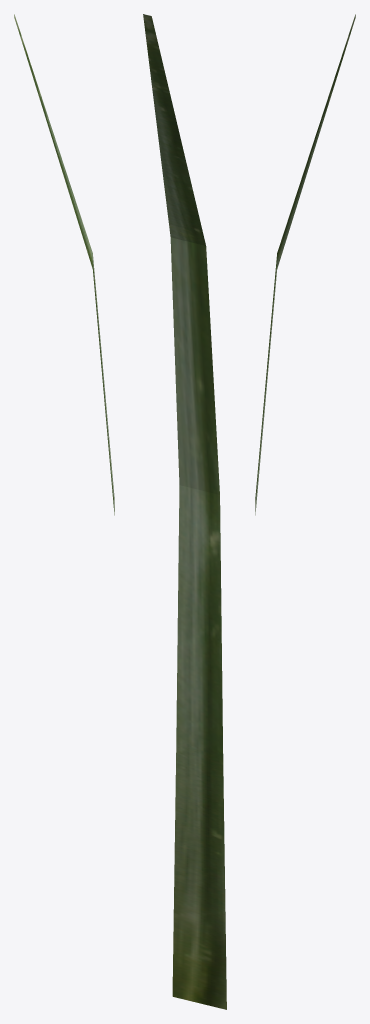
Rendered from grass_tuft_a.glb.
3 views of the same model, side by side, from view 1: azimuth 90°, elevation 25°; view 2: azimuth 150°, elevation 25°; view 3: azimuth 270°, elevation 25° (orthographic). The views are drawn at different scales.
Visible parts, largest first — view 1: grass_tuft_a; view 2: grass_tuft_a; view 3: grass_tuft_a.
Part boxes in pixels (x1,y1,x2,y2): grass_tuft_a: (14, 14, 114, 515); grass_tuft_a: (143, 14, 226, 1009); grass_tuft_a: (255, 14, 355, 515).
Size of the model in its own units: 0.1872 by 3.38 by 0.312.
1 material, 1 textured.
